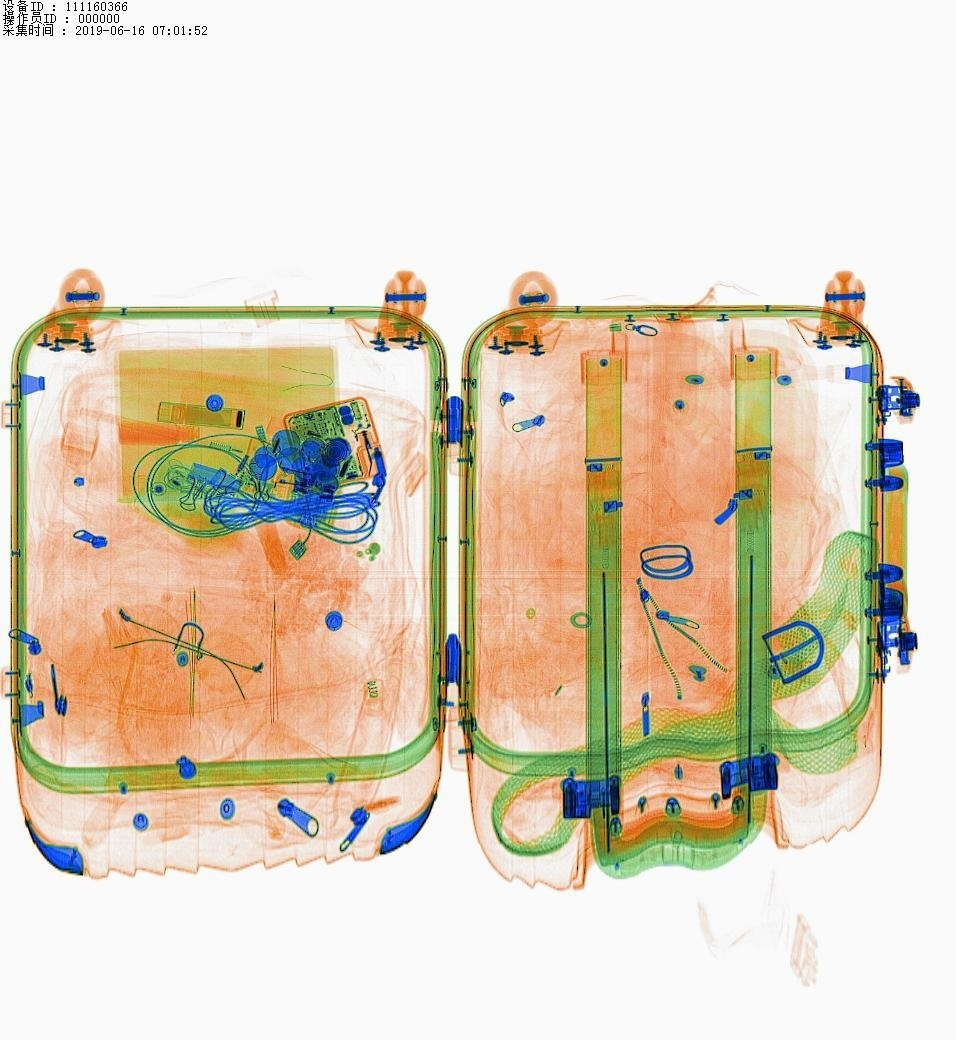NonmetallicFire: (260, 411, 360, 458)
